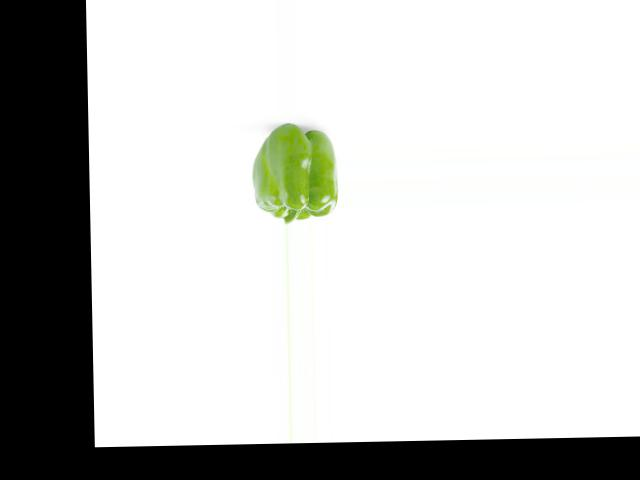bell_pepper: (249, 125, 340, 222)
